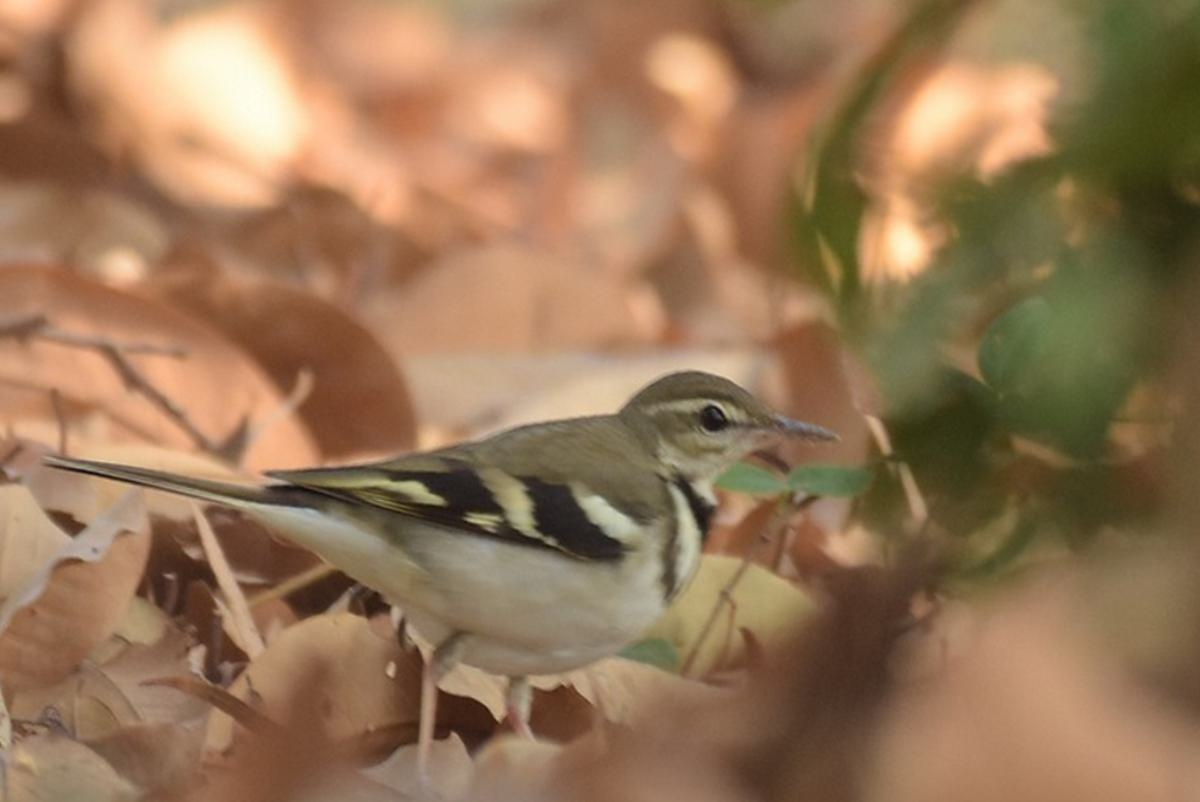wagtail: (58, 349, 817, 654)
